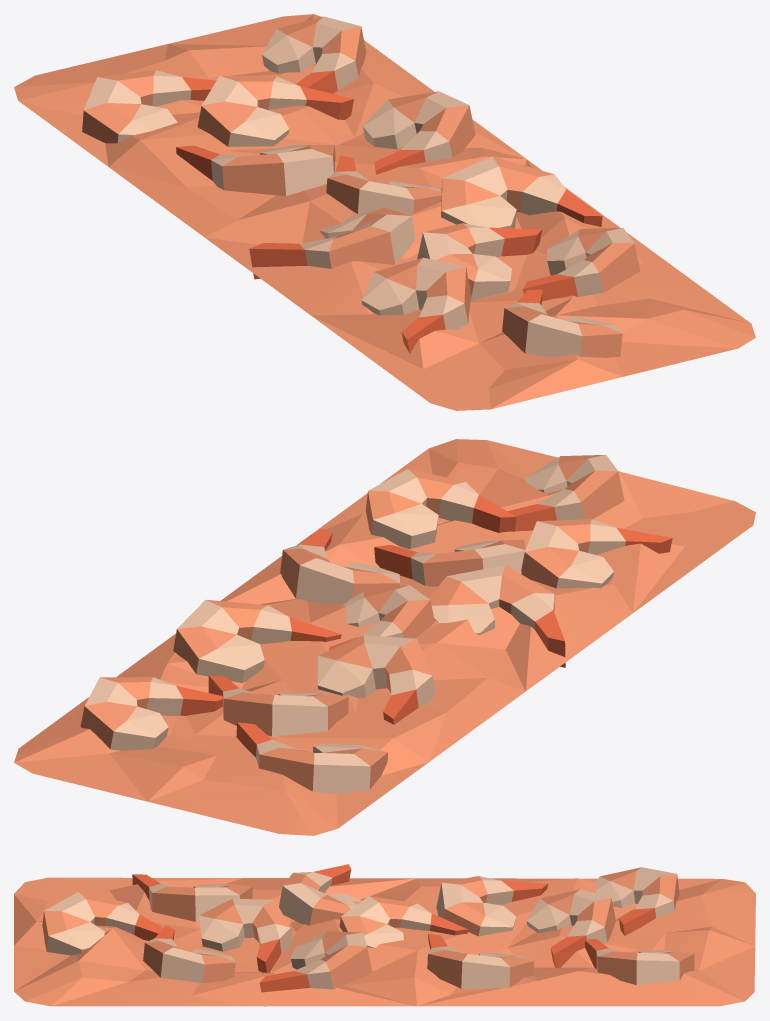
Rendered from SM_Prop_Kitchen_Counter_Food_Insert_Large_02.obj.
The picture shows the model from 3 angles, top to bottom: view 1: azimuth 30°, elevation 25°; view 2: azimuth 150°, elevation 25°; view 3: azimuth 270°, elevation 25°; orthographic projection. The views are drawn at different scales.
Visible parts, largest first — view 1: SM_Prop_Kitchen_Counter_Food_Insert_Large_02_0; view 2: SM_Prop_Kitchen_Counter_Food_Insert_Large_02_0; view 3: SM_Prop_Kitchen_Counter_Food_Insert_Large_02_0.
Boxes of the visible parts, <box> form: SM_Prop_Kitchen_Counter_Food_Insert_Large_02_0: <box>14,14,755,410</box>; SM_Prop_Kitchen_Counter_Food_Insert_Large_02_0: <box>14,439,755,835</box>; SM_Prop_Kitchen_Counter_Food_Insert_Large_02_0: <box>14,864,755,1006</box>.
Size of the model in its own units: 0.2884 by 0.0446 by 0.7048.
1 material, 1 textured.
